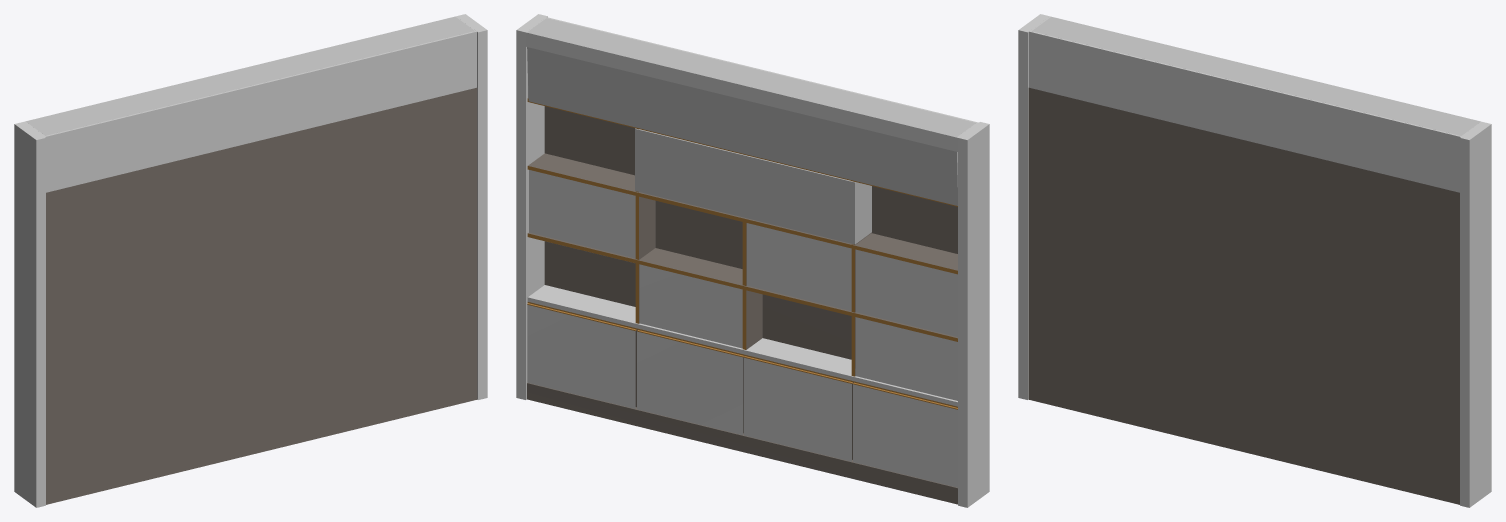
Rendered from SM_M_Government_Office_Bookcase_10_ATLAS.fbx.
3 views of the same model, side by side, from view 1: azimuth 30°, elevation 25°; view 2: azimuth 150°, elevation 25°; view 3: azimuth 330°, elevation 25° (orthographic).
Parts seen in each view (by area): view 1: SM_M_Government_Office_Bookcase_10_ATLAS, SM_M_Government_Office_Bookcase_10_ATLAS_ConvexHulls; view 2: SM_M_Government_Office_Bookcase_10_ATLAS, SM_M_Government_Office_Bookcase_10_ATLAS_ConvexHulls; view 3: SM_M_Government_Office_Bookcase_10_ATLAS, SM_M_Government_Office_Bookcase_10_ATLAS_ConvexHulls.
Boxes of the visible parts, left/top/right/bottom form: SM_M_Government_Office_Bookcase_10_ATLAS: left=14, top=14, right=487, bottom=507; SM_M_Government_Office_Bookcase_10_ATLAS_ConvexHulls: left=26, top=16, right=474, bottom=135; SM_M_Government_Office_Bookcase_10_ATLAS: left=516, top=14, right=989, bottom=507; SM_M_Government_Office_Bookcase_10_ATLAS_ConvexHulls: left=527, top=18, right=975, bottom=244; SM_M_Government_Office_Bookcase_10_ATLAS: left=1018, top=14, right=1491, bottom=507; SM_M_Government_Office_Bookcase_10_ATLAS_ConvexHulls: left=1032, top=16, right=1480, bottom=135.
Size of the model in its own units: 607 by 51.41 by 473.
